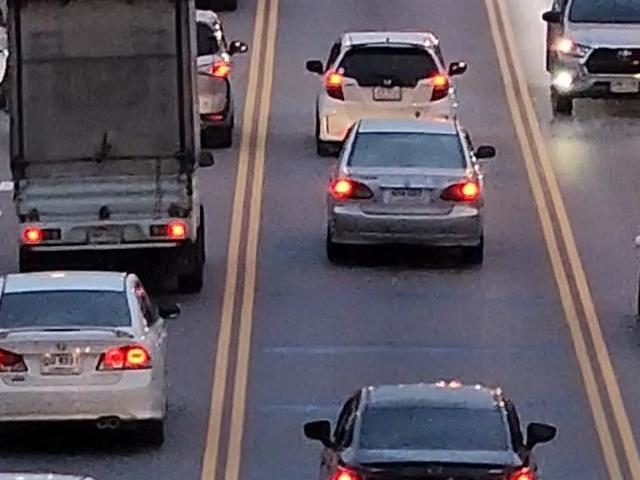car: (0, 261, 206, 445), (293, 365, 560, 480), (313, 118, 513, 262), (300, 18, 480, 152), (80, 3, 248, 145), (530, 0, 640, 121)
truck: (0, 0, 206, 295)
